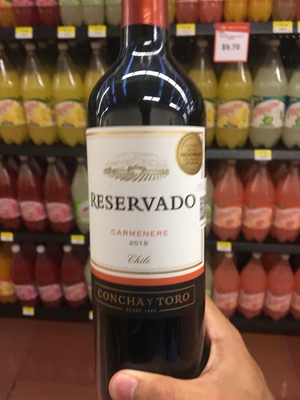reservado carmenere: (78, 16, 223, 399)
